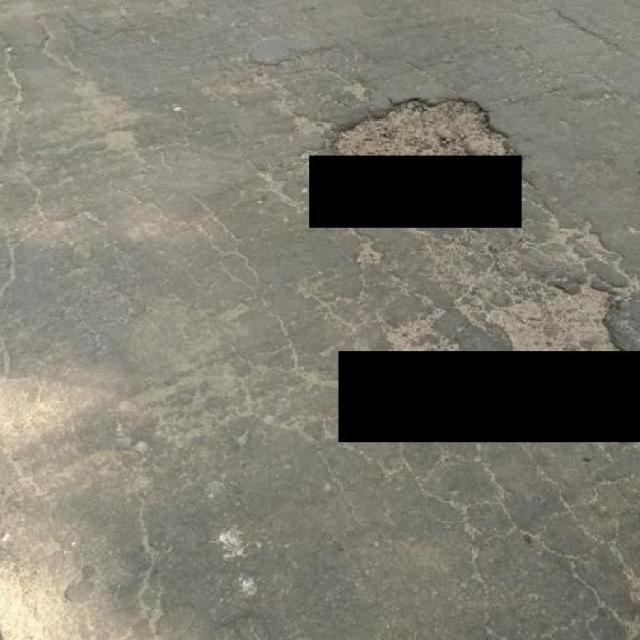road-pothole: (471, 268, 630, 349), (327, 92, 516, 152)
